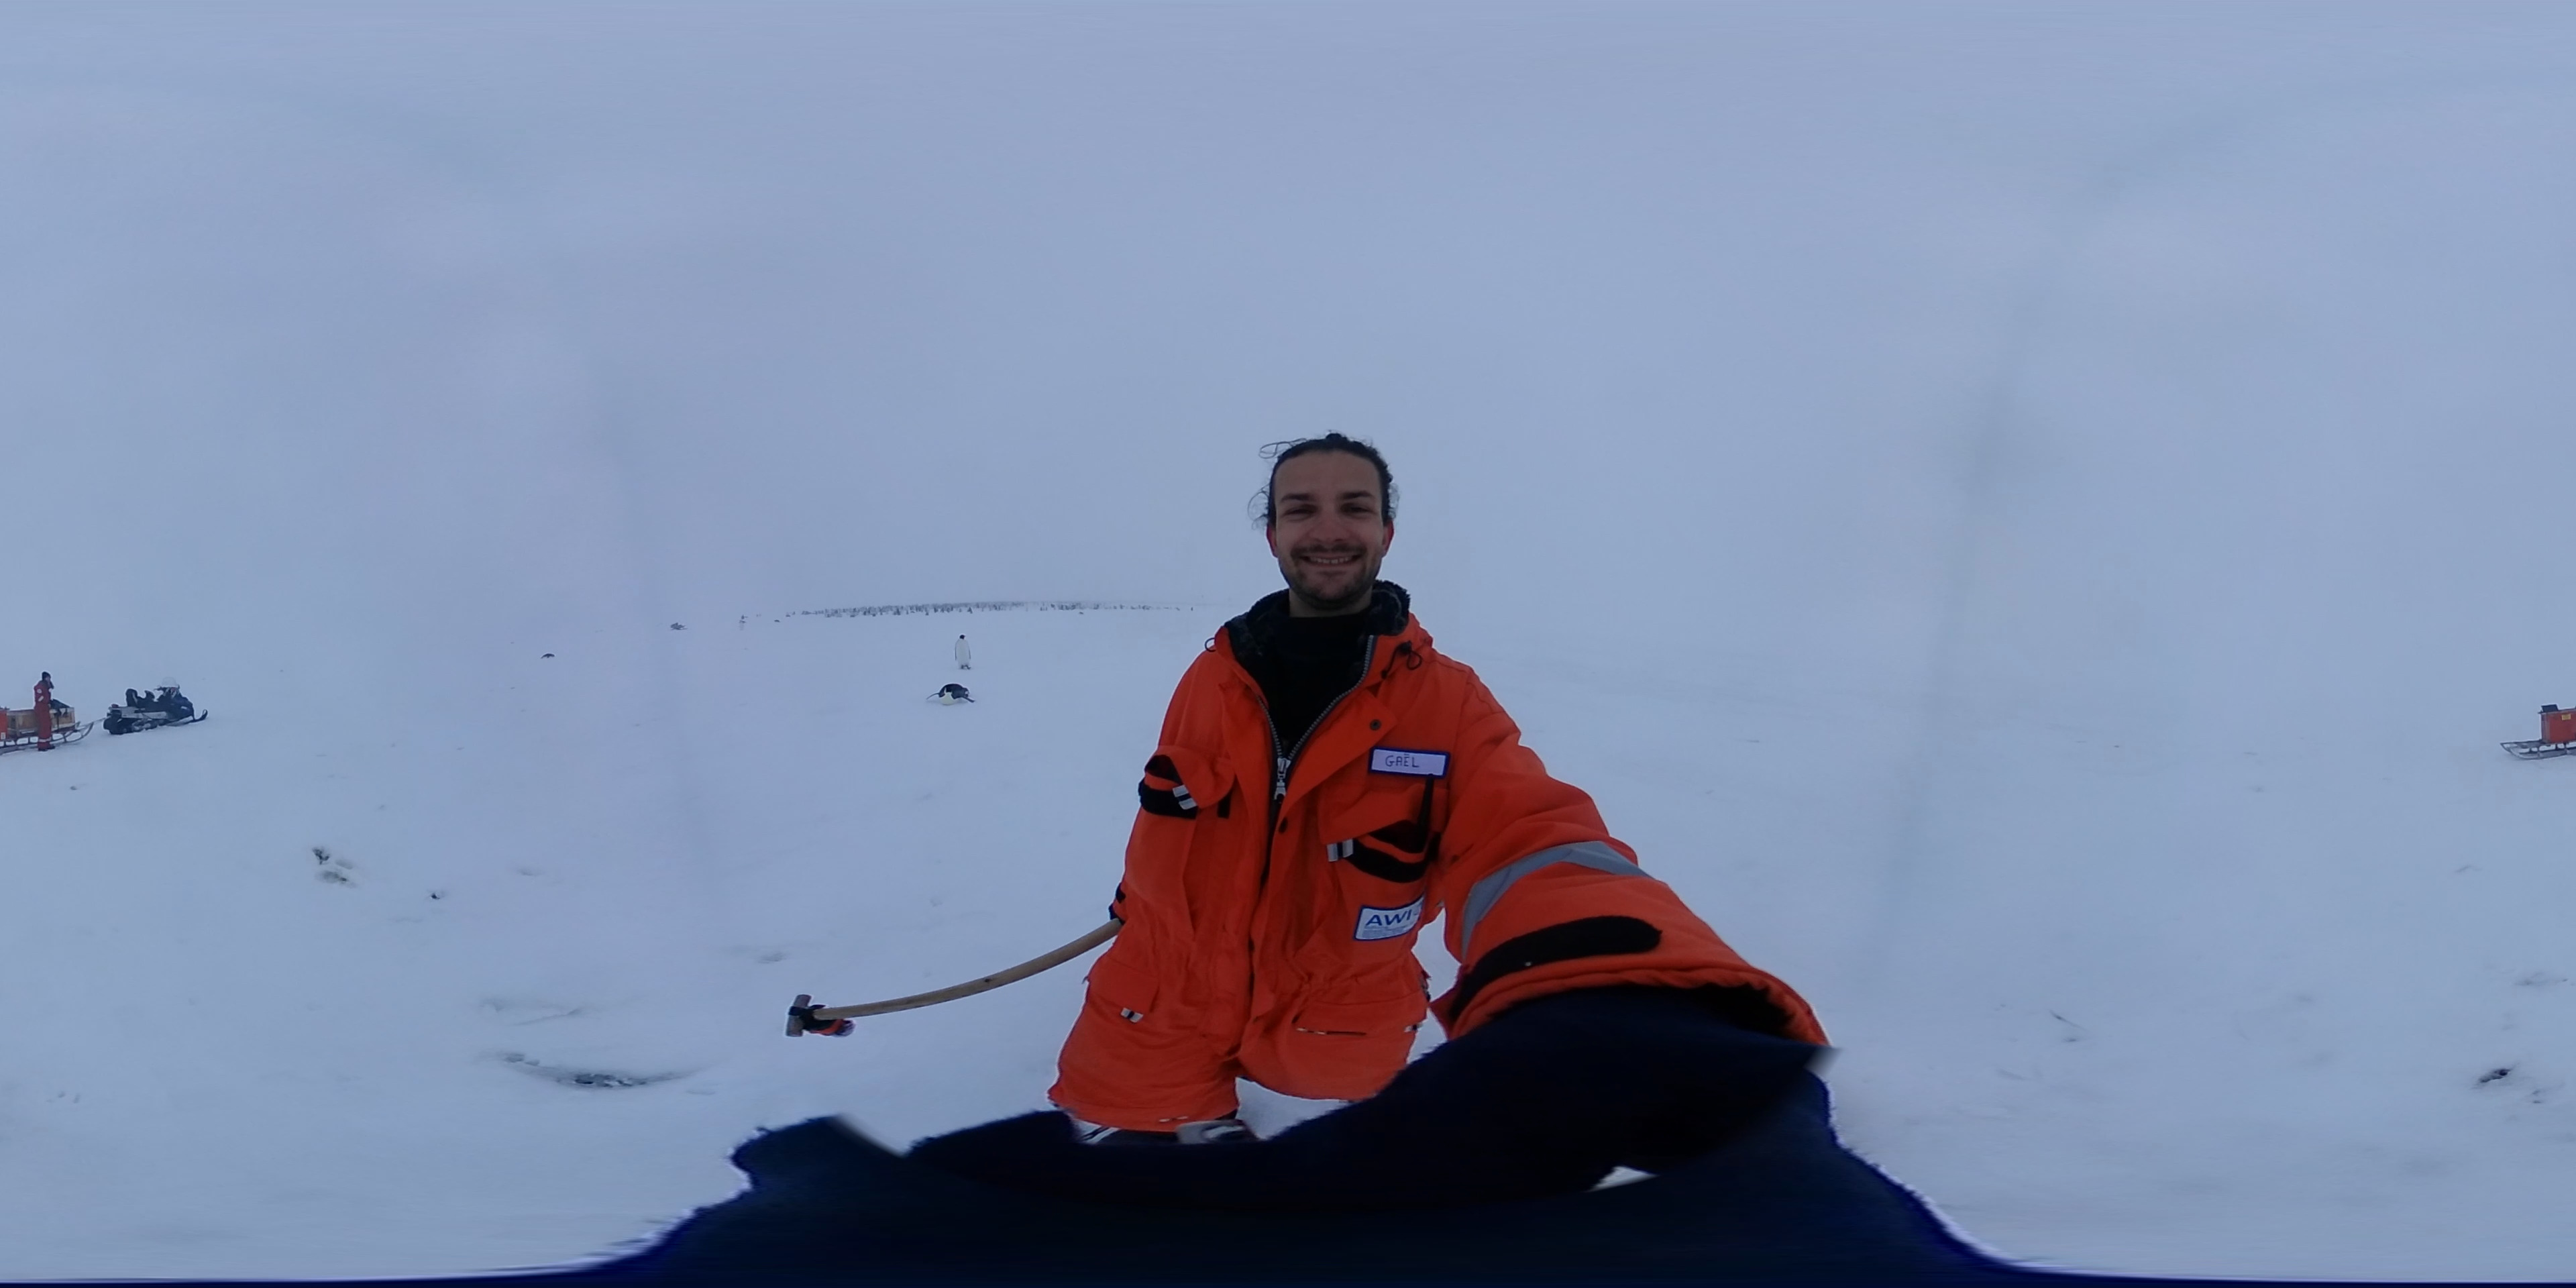adult_standing_penguin: (953, 632, 977, 674)
adult_toboggan_penguin: (925, 680, 981, 705)
researcher: (849, 422, 1863, 1273), (33, 669, 56, 759)
